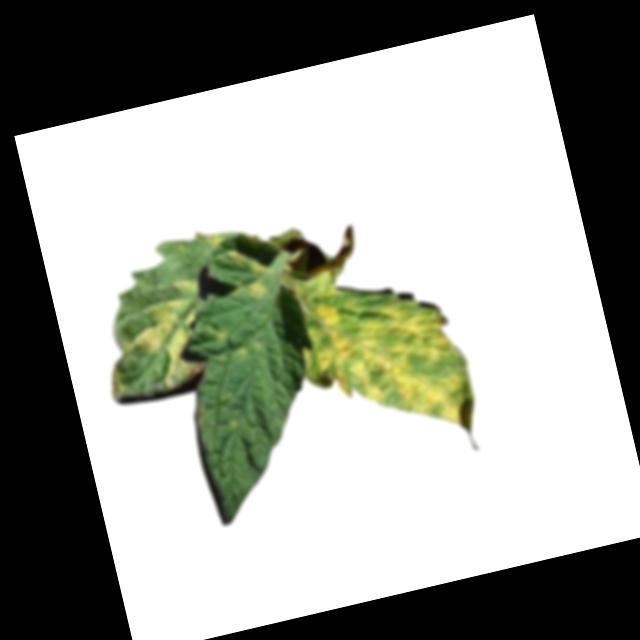Leaf_Mold: (287, 244, 484, 466), (123, 274, 221, 391), (226, 276, 271, 303), (246, 258, 273, 280), (201, 230, 227, 252), (223, 248, 245, 269)
